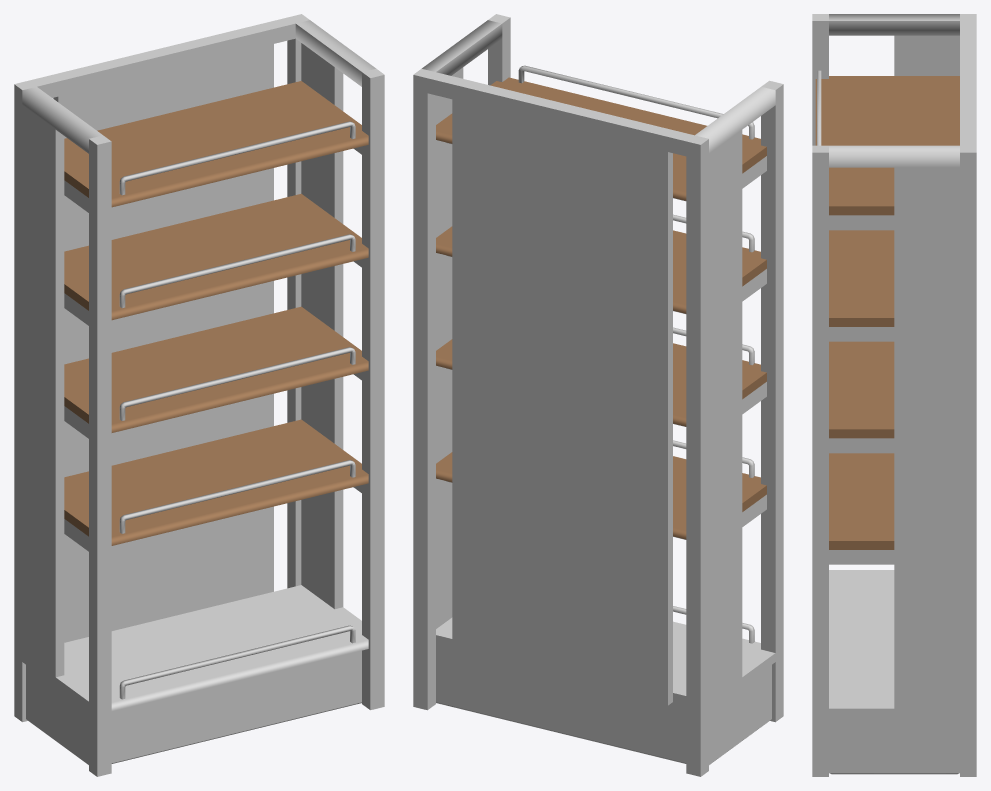
The model's file is Shelf_01b.fbx.
3 views of the same model, side by side, from view 1: azimuth 30°, elevation 25°; view 2: azimuth 150°, elevation 25°; view 3: azimuth 270°, elevation 25° (orthographic).
Visible parts, largest first — view 1: Shelf_01b_LOD0; view 2: Shelf_01b_LOD0; view 3: Shelf_01b_LOD0.
Boxes of the visible parts, x1,y1,x2,y2 form: Shelf_01b_LOD0: (14, 14, 384, 776); Shelf_01b_LOD0: (413, 14, 783, 776); Shelf_01b_LOD0: (812, 14, 976, 776).
Size of what is drawn, in the model's own units: 100 by 210 by 50.
